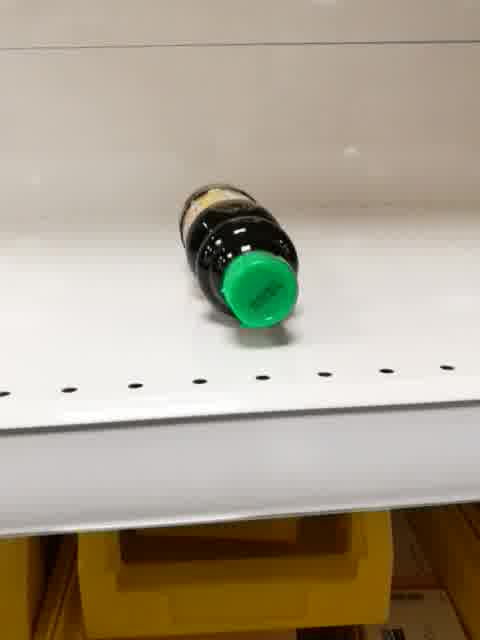cookingoil: (176, 181, 301, 330)
